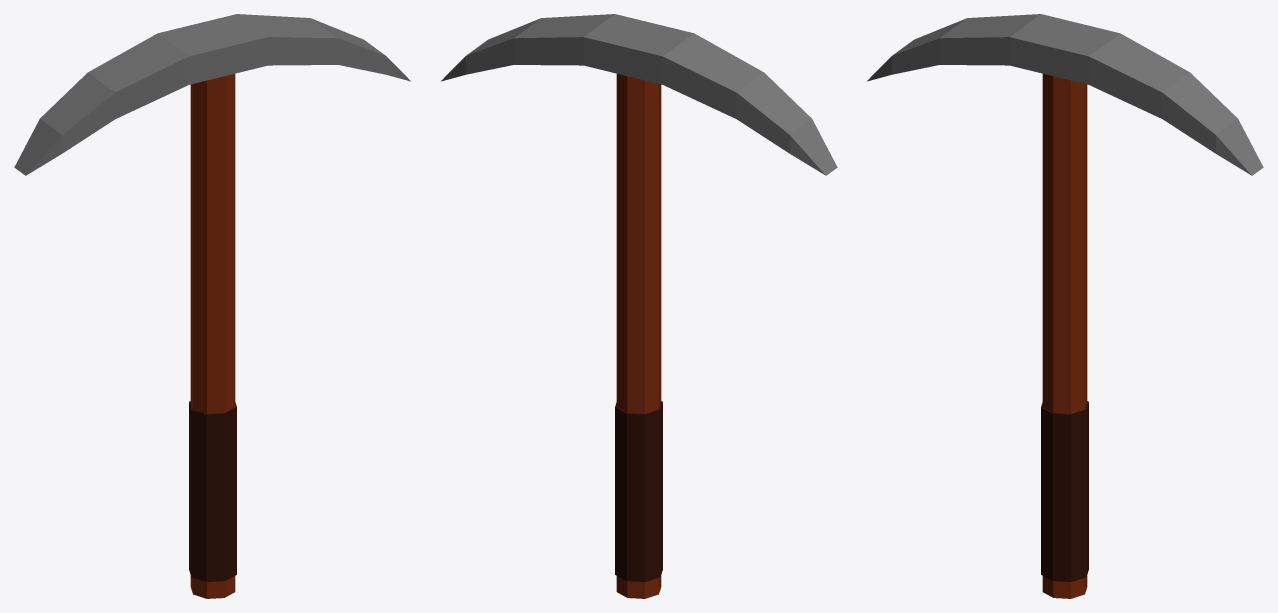
File: Pick.obj
3 renders of one model, left to right at view 1: azimuth 30°, elevation 25°; view 2: azimuth 150°, elevation 25°; view 3: azimuth 330°, elevation 25°, orthographic.
Parts seen in each view (by area): view 1: Axe_Cube.002; view 2: Axe_Cube.002; view 3: Axe_Cube.002.
Part boxes in pixels (<box>): Axe_Cube.002: <box>14,14,410,598</box>; Axe_Cube.002: <box>441,14,837,598</box>; Axe_Cube.002: <box>867,14,1263,598</box>.
Bounding box in the file's own units: 0.9666 × 1.33 × 0.1367.
